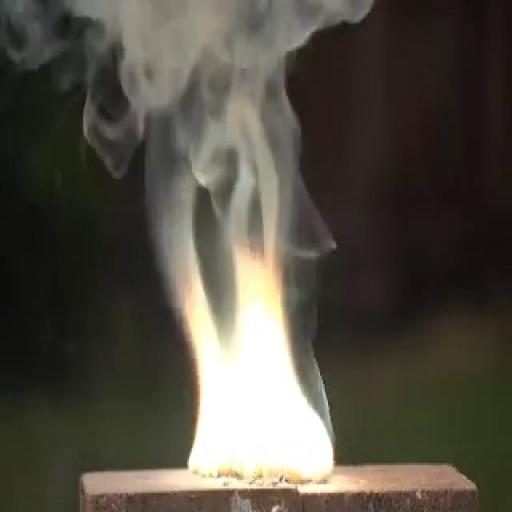smoke: (176, 207, 336, 487)
